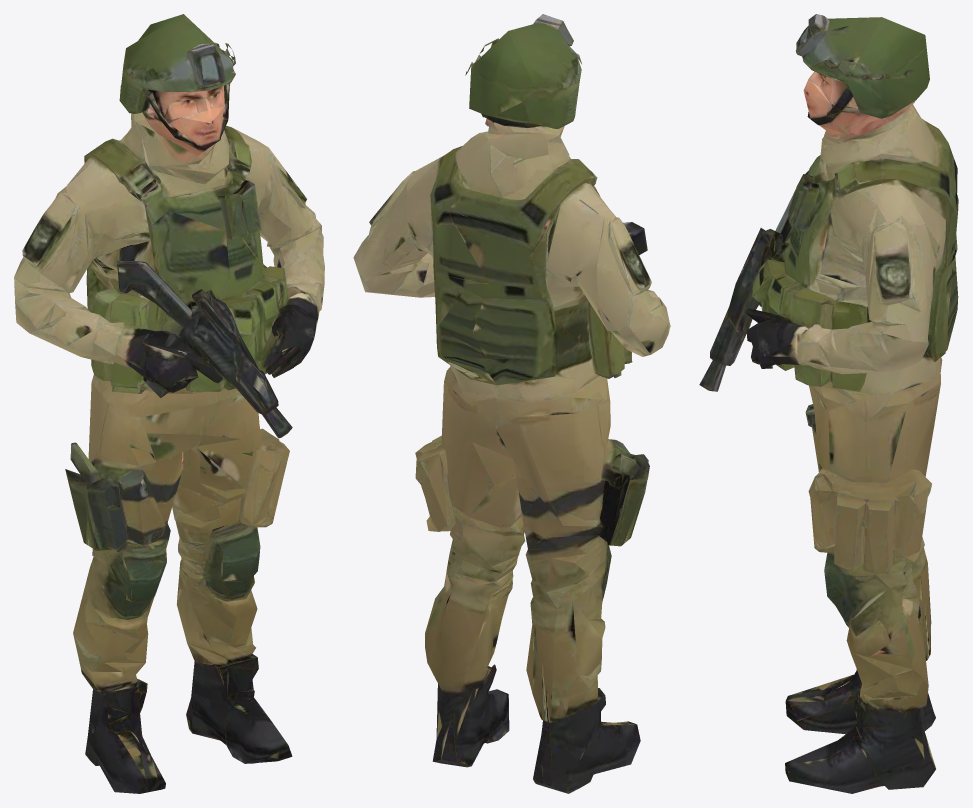
Rendered from soldier-static-lod.glb.
3 renders of one model, left to right at view 1: azimuth 30°, elevation 25°; view 2: azimuth 150°, elevation 25°; view 3: azimuth 270°, elevation 25°, orthographic.
Visible parts, largest first — view 1: Mesh_0; view 2: Mesh_0; view 3: Mesh_0.
Part boxes in pixels (bbox=[...]): Mesh_0: bbox=[14, 14, 324, 793]; Mesh_0: bbox=[353, 14, 670, 793]; Mesh_0: bbox=[699, 14, 958, 793].
Bounding box in the file's own units: 0.7849 × 1.8 × 0.5669.
Materials: 1 (1 with a texture image).
